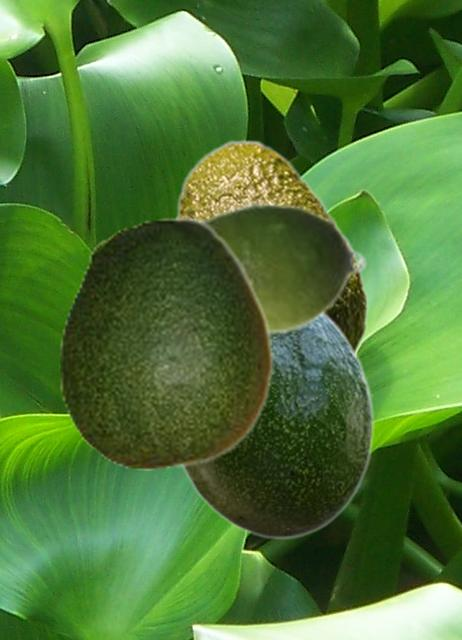avocado: (58, 216, 273, 469), (180, 312, 373, 539), (171, 139, 368, 354), (199, 199, 367, 336)
